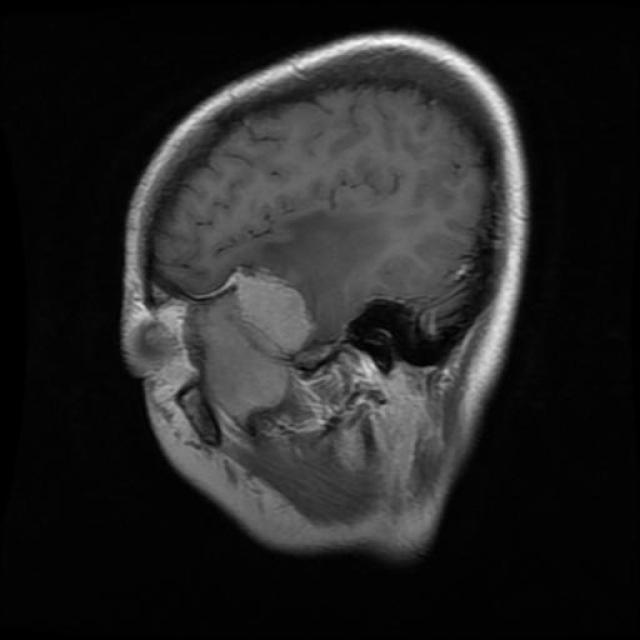meningioma: (236, 275, 314, 356)
